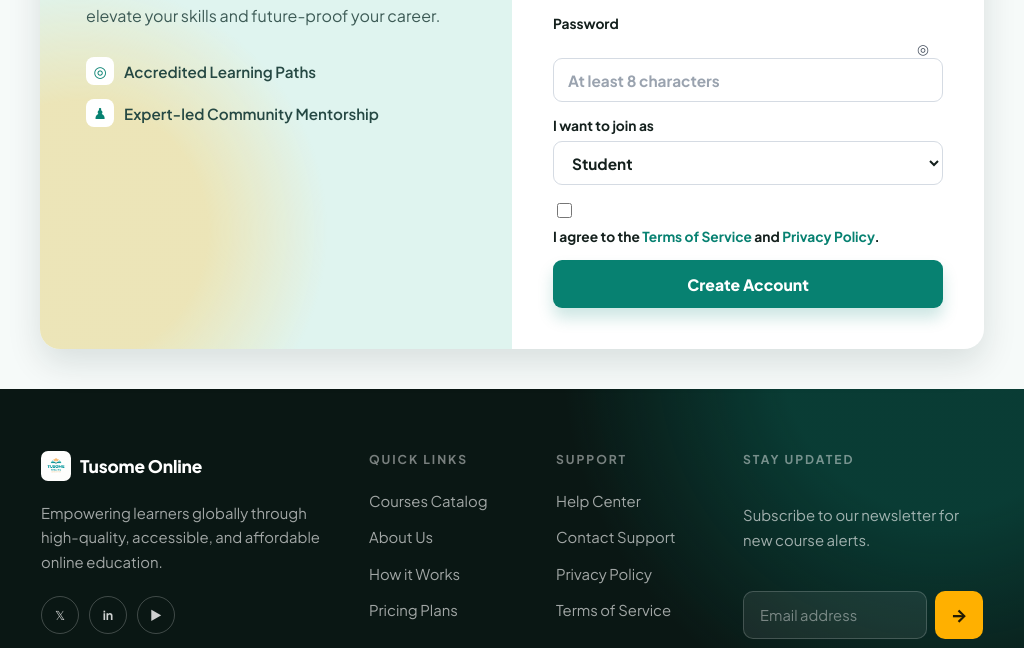
Test: Given a visitor on the register page › when they submit an empty form, then every required field shows its own message
(page scrolled)
Click the button "Create Account". click: (748, 284)
box: 553,260 -> 943,308
(page scrolled)
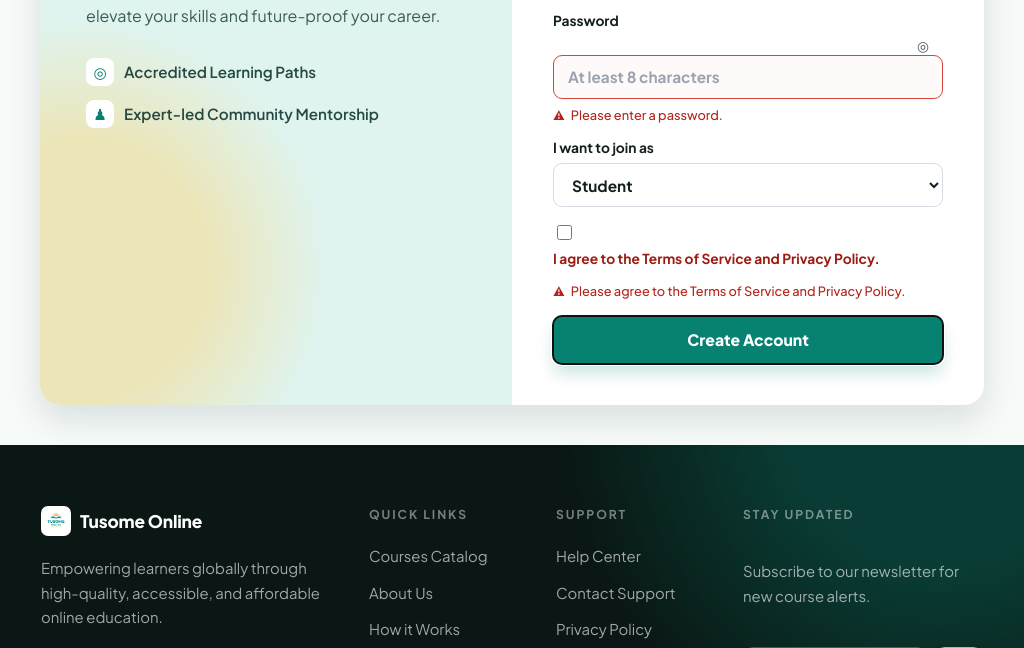
Now the text "Please enter a password." is shown, box 571,106 -> 723,122
Now the text "Please agree to the Terms of Service and Privacy Policy." is shown, box 553,282 -> 943,301
